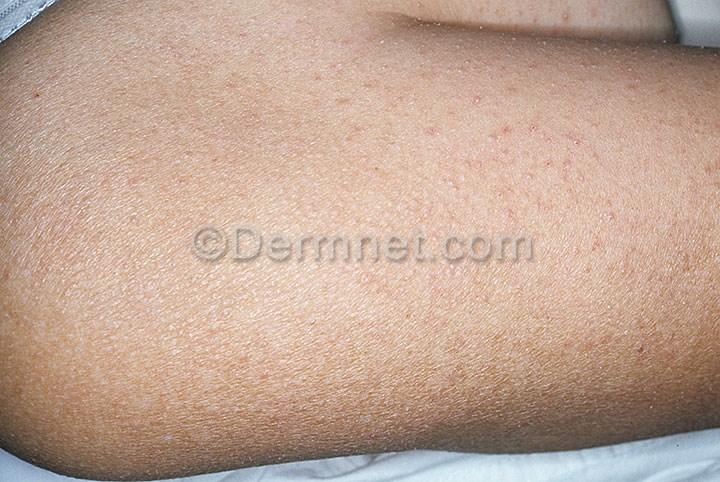edema1: (277, 28, 601, 196)
xerosis 1: (367, 13, 719, 76)
